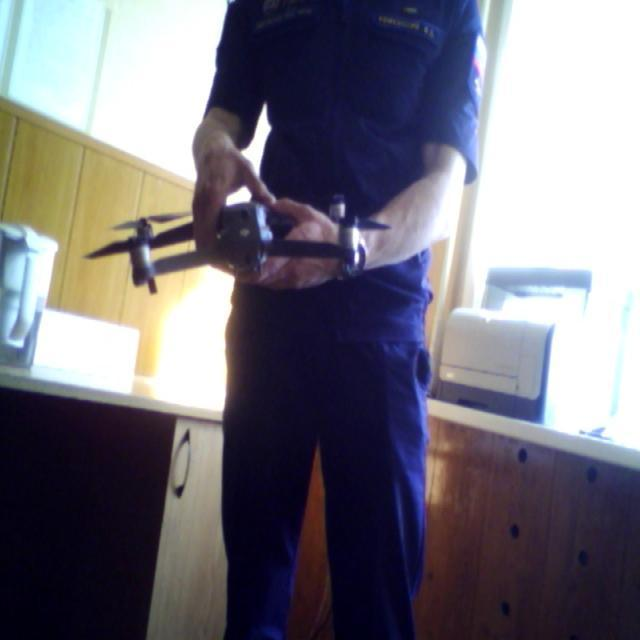drone: (90, 180, 404, 296)
